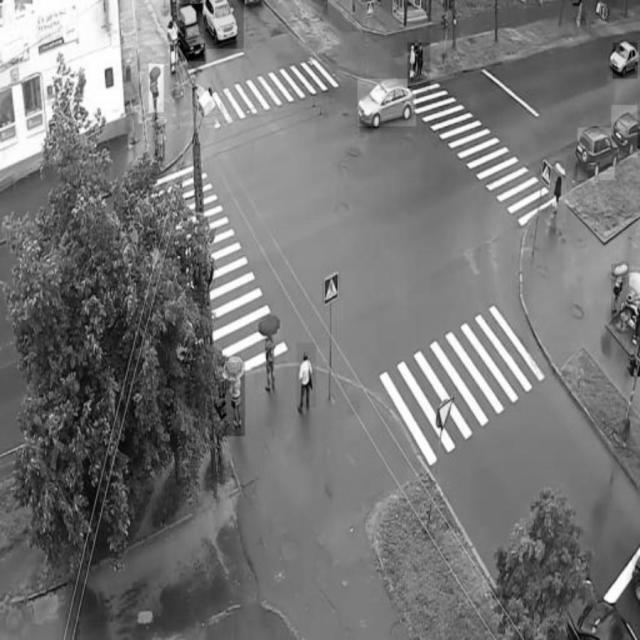person: (258, 322, 283, 393), (222, 363, 246, 436), (297, 343, 317, 407), (549, 158, 566, 228), (612, 264, 629, 324), (413, 43, 430, 90), (149, 64, 164, 112), (408, 43, 422, 89), (156, 118, 166, 162)
vehicle: (358, 79, 416, 126), (200, 0, 243, 48), (578, 128, 615, 180), (178, 5, 206, 62), (612, 106, 638, 158), (612, 43, 638, 79)
